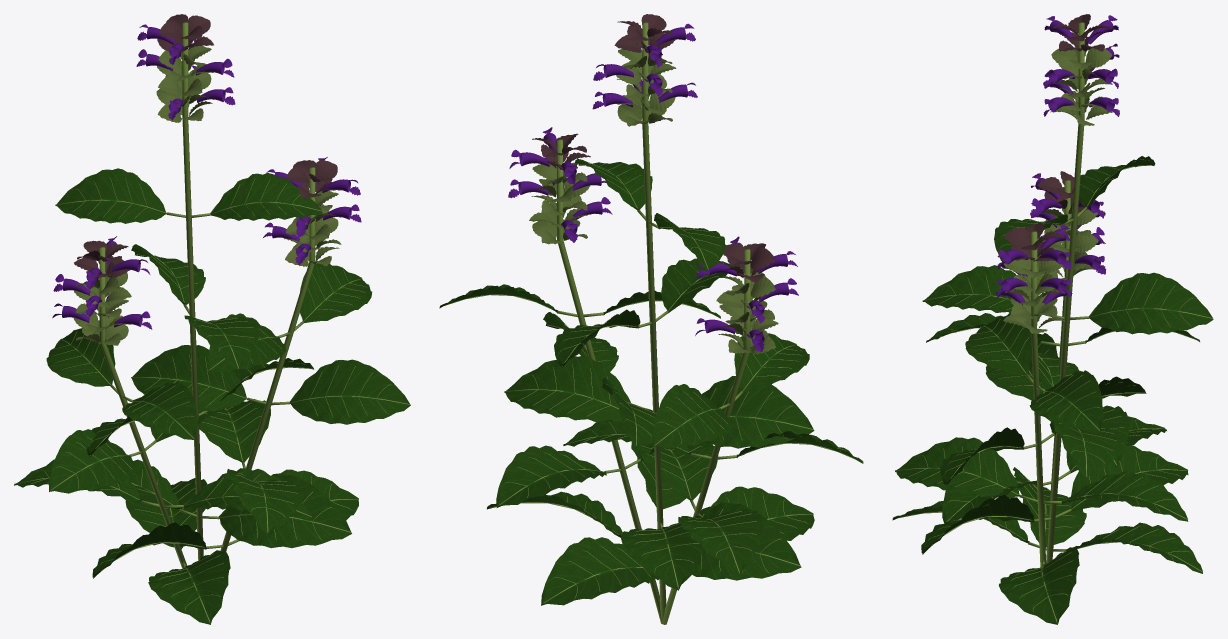
The picture shows the model from 3 angles, left to right: view 1: azimuth 30°, elevation 25°; view 2: azimuth 150°, elevation 25°; view 3: azimuth 270°, elevation 25°; orthographic projection. The views are drawn at different scales.
Visible parts, largest first — view 1: leaves, stems, petals, hooded_corolla_tubes, petals.002, leaf_secondary_veins, leaf_midribs, petals.001; view 2: leaves, petals, stems, hooded_corolla_tubes, petals.002, leaf_secondary_veins, leaf_midribs, petals.001; view 3: leaves, stems, petals, hooded_corolla_tubes, leaf_secondary_veins, petals.002, leaf_midribs, petals.001.
Boxes of the visible parts, <box> form: leaves: <box>14,168,410,624</box>; stems: <box>99,22,315,568</box>; petals: <box>73,45,341,345</box>; hooded_corolla_tubes: <box>62,27,351,327</box>; petals.002: <box>74,14,340,278</box>; leaf_secondary_veins: <box>30,177,390,611</box>; leaf_midribs: <box>14,199,410,623</box>; petals.001: <box>52,24,361,329</box>; leaves: <box>439,159,863,605</box>; petals: <box>529,49,778,354</box>; stems: <box>557,22,750,624</box>; hooded_corolla_tubes: <box>518,27,788,344</box>; petals.002: <box>532,14,777,282</box>; leaf_secondary_veins: <box>504,162,846,598</box>; leaf_midribs: <box>443,164,863,604</box>; petals.001: <box>508,23,798,352</box>; leaves: <box>892,156,1213,624</box>; stems: <box>1019,22,1089,567</box>; petals: <box>1003,43,1112,333</box>; hooded_corolla_tubes: <box>1001,20,1114,305</box>; leaf_secondary_veins: <box>907,159,1193,611</box>; petals.002: <box>1004,14,1111,261</box>; leaf_midribs: <box>892,165,1213,623</box>; petals.001: <box>996,15,1119,297</box>.
Size of the model in its own units: 0.1512 by 0.236 by 0.115.
6 materials, 2 textured.
